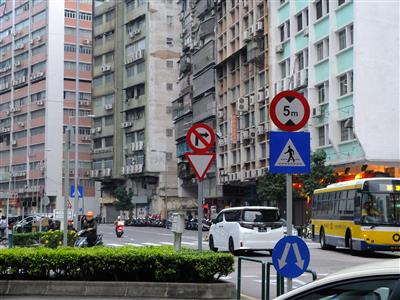5mHeightLimit: (268, 88, 311, 130)
keepLeftRight: (270, 234, 310, 277)
noRightTurn: (185, 122, 214, 152)
pedestrianCrossing: (267, 128, 313, 175)
yield: (182, 150, 216, 181)
